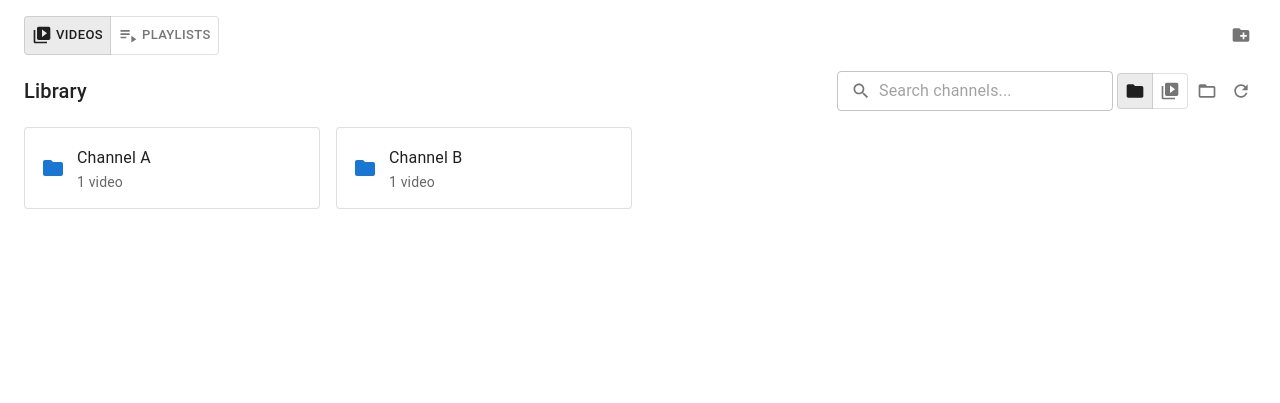
it: LibraryScreen › grid/list display mode › shows the grid/list toggle only on the flat by-video list, not a single channel's own video grid
The image size is (1280, 403).
Click the heading "Channel A" at coordinates (114, 158), box [77, 144, 151, 172]
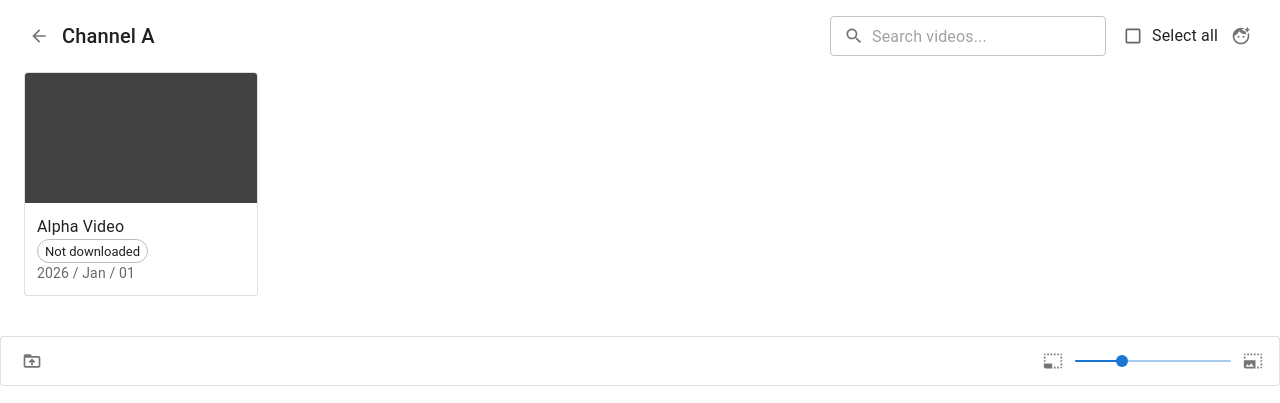
Now the slider named "Thumbnail size" is shown, box [1116, 355, 1128, 367]
